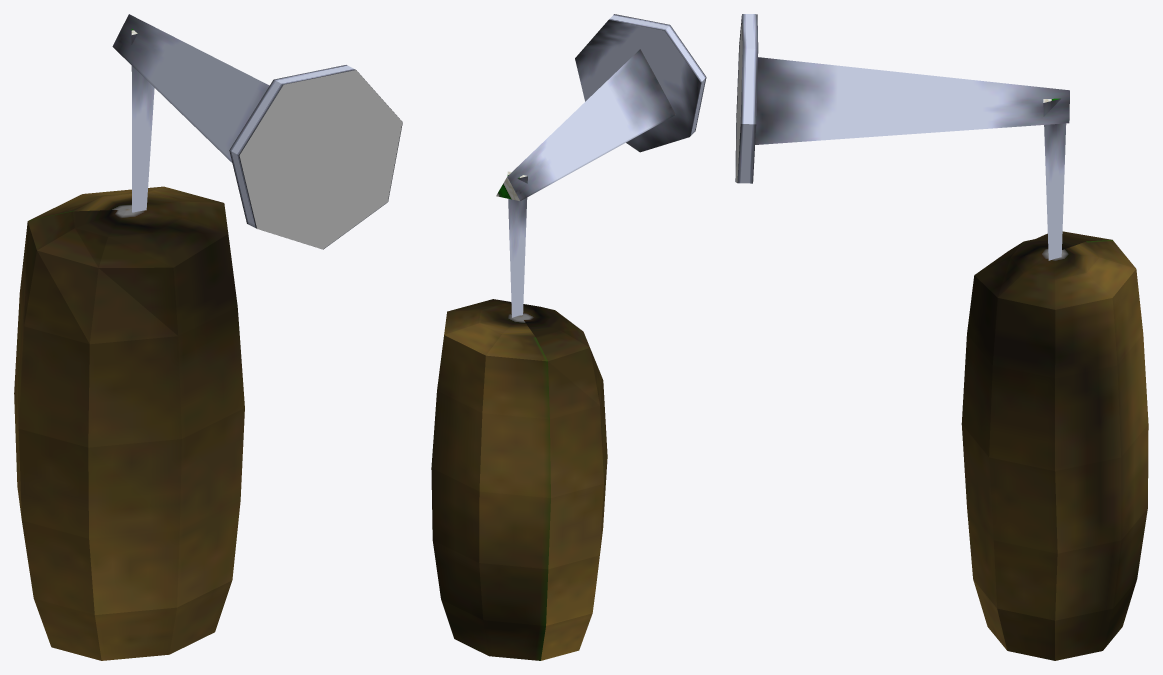
The model's file is Boxsack_1106.glb.
3 renders of one model, left to right at view 1: azimuth 30°, elevation 25°; view 2: azimuth 150°, elevation 25°; view 3: azimuth 270°, elevation 25°, orthographic. The views are drawn at different scales.
Parts seen in each view (by area): view 1: pSphereShape8, pPlaneShape48, pCylinderShape48, pPlaneShape49, pCylinderShape47, pCylinderShape46; view 2: pSphereShape8, pCylinderShape48, pPlaneShape47, pCylinderShape47, pCylinderShape46; view 3: pSphereShape8, pCylinderShape48, pCylinderShape46, pCylinderShape47.
Part boxes in pixels (bbox=[...]): pSphereShape8: bbox=[14, 186, 244, 660]; pPlaneShape48: bbox=[239, 70, 402, 249]; pCylinderShape48: bbox=[112, 14, 269, 162]; pPlaneShape49: bbox=[240, 72, 400, 246]; pCylinderShape47: bbox=[131, 28, 154, 212]; pCylinderShape46: bbox=[229, 65, 402, 249]; pSphereShape8: bbox=[431, 299, 607, 660]; pCylinderShape48: bbox=[496, 49, 675, 201]; pPlaneShape47: bbox=[575, 20, 700, 152]; pCylinderShape47: bbox=[507, 171, 527, 317]; pCylinderShape46: bbox=[609, 14, 706, 136]; pSphereShape8: bbox=[961, 231, 1148, 660]; pCylinderShape48: bbox=[755, 57, 1069, 144]; pCylinderShape46: bbox=[735, 14, 758, 183]; pCylinderShape47: bbox=[1043, 98, 1066, 260].
Bounding box in the file's own units: 0.101 × 0.2951 × 0.1831.
Materials: 7 (5 with a texture image).
